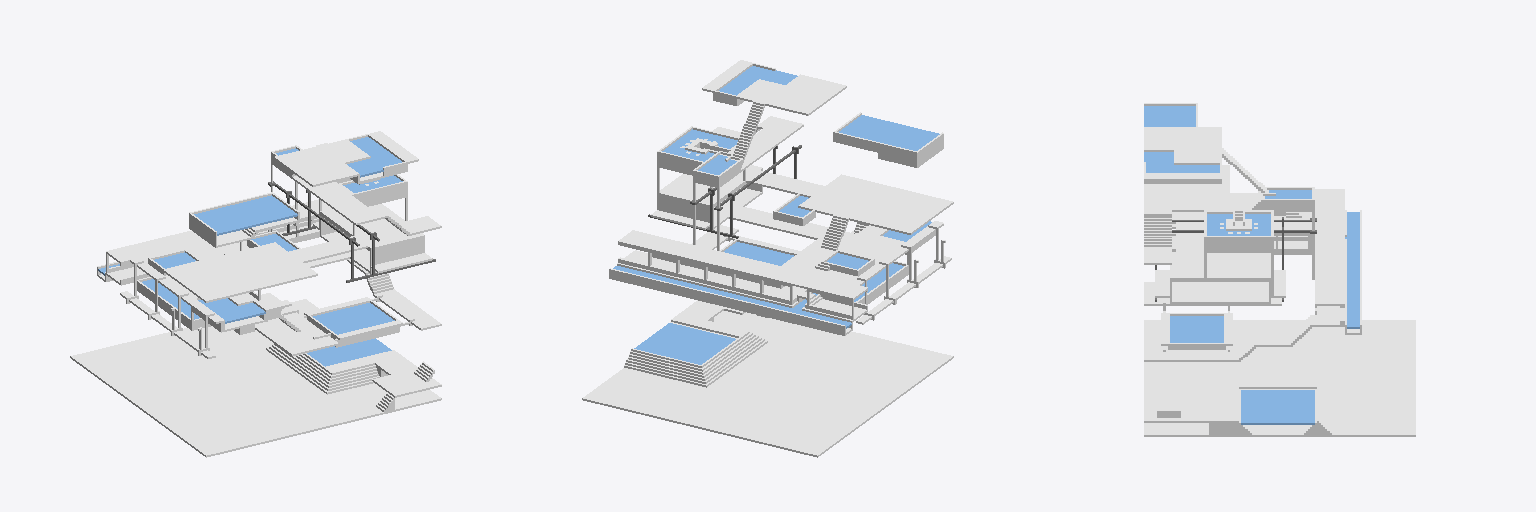
The picture shows the model from 3 angles: view 1: azimuth 30°, elevation 25°; view 2: azimuth 150°, elevation 25°; view 3: azimuth 270°, elevation 25°; orthographic projection.
Parts seen in each view (by area): view 1: defaultRenderPOOL-10; view 2: defaultRenderPOOL-10; view 3: defaultRenderPOOL-10.
Boxes of the visible parts, x1,y1,x2,y2 form: defaultRenderPOOL-10: [70, 131, 441, 457]; defaultRenderPOOL-10: [582, 60, 953, 457]; defaultRenderPOOL-10: [1144, 103, 1415, 436].
Bounding box in the file's own units: 126 × 126 × 126.
Materials: 1 (1 with a texture image).